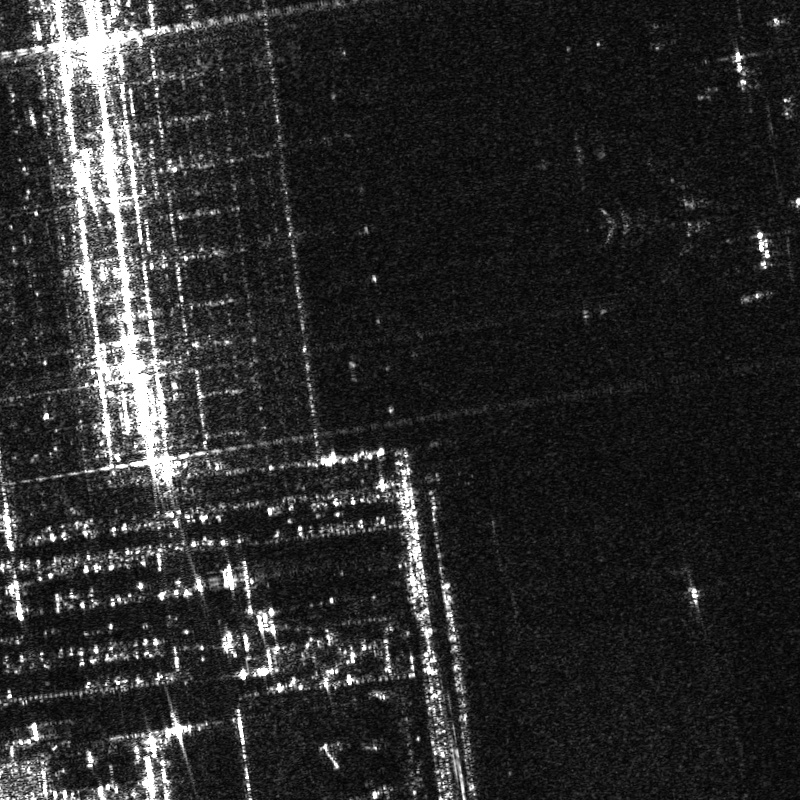Boeing787: (602, 156, 742, 278)
